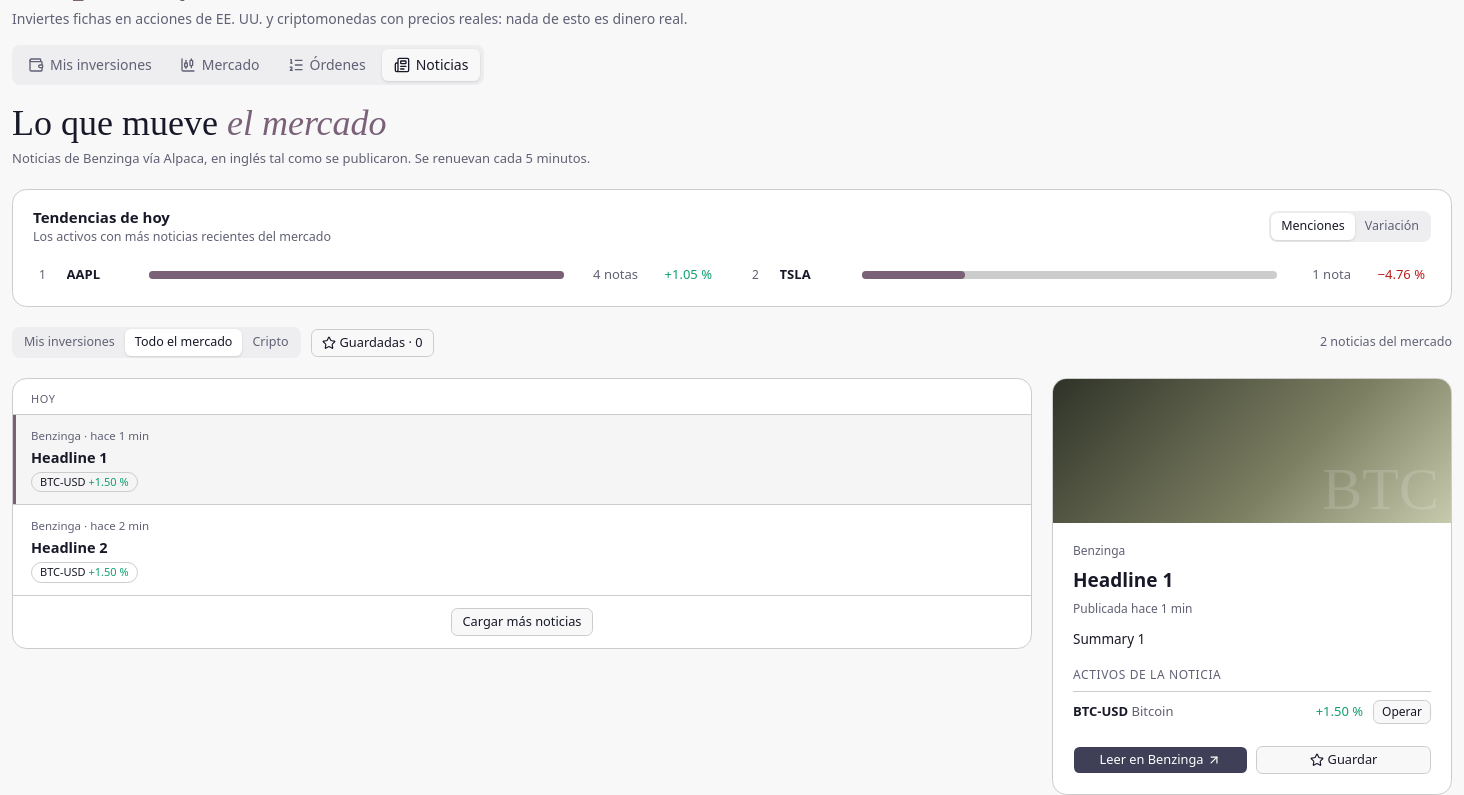
NewsPage › guardar una nota la deja en Guardadas
(page scrolled)
Expected: the element "Headline 1" is shown, [1052,378,1452,794]
Step 1. Click the button "Guardar" → {"x": 1344, "y": 760}, box [1256,746,1431,774]
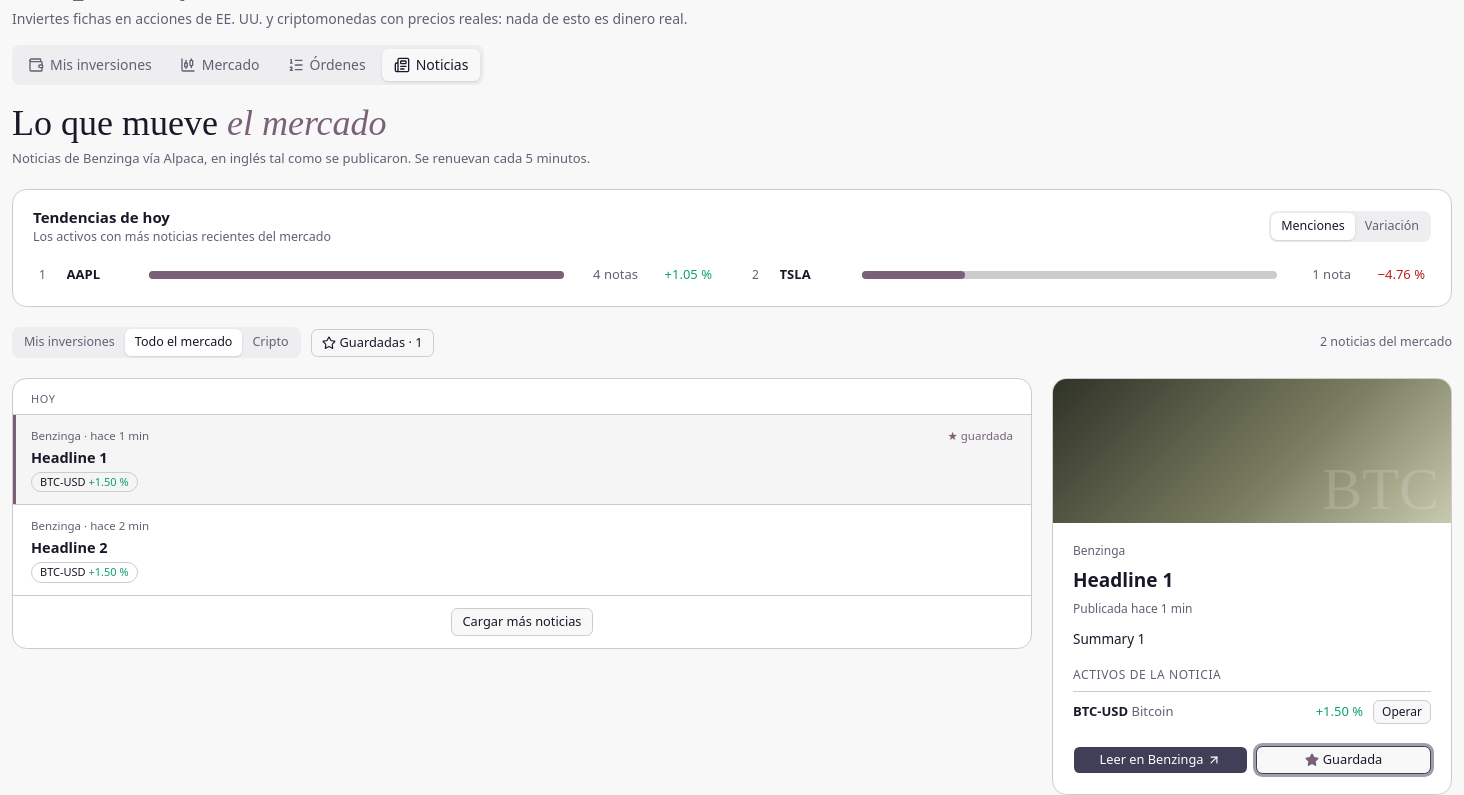
Step 2. Click the button "Guardadas · 1" → {"x": 372, "y": 343}, box [310,329,434,357]
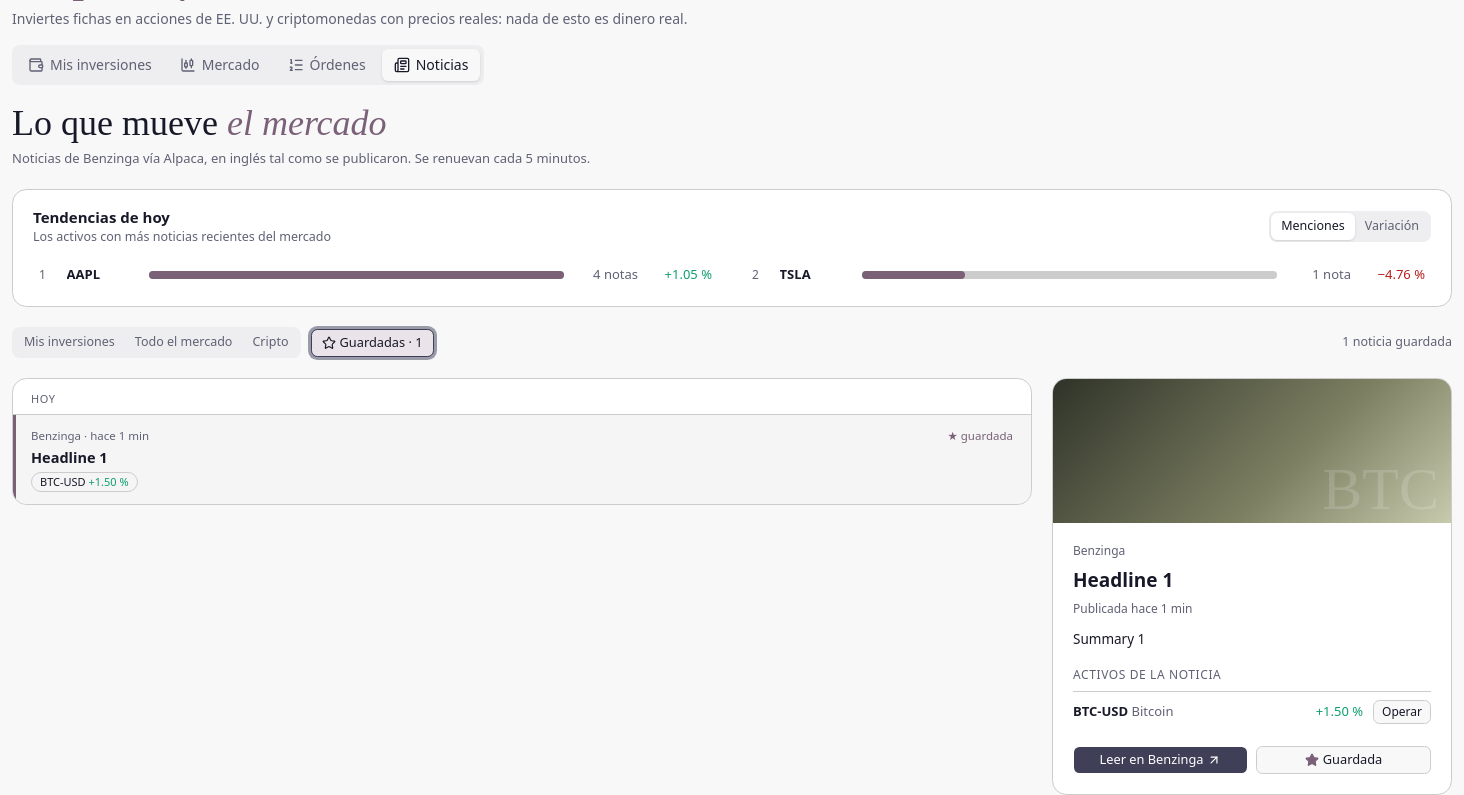
Now the text "1 noticia guardada" is shown, box [1342,333,1452,352]
Now the button "Headline 2" is gone
